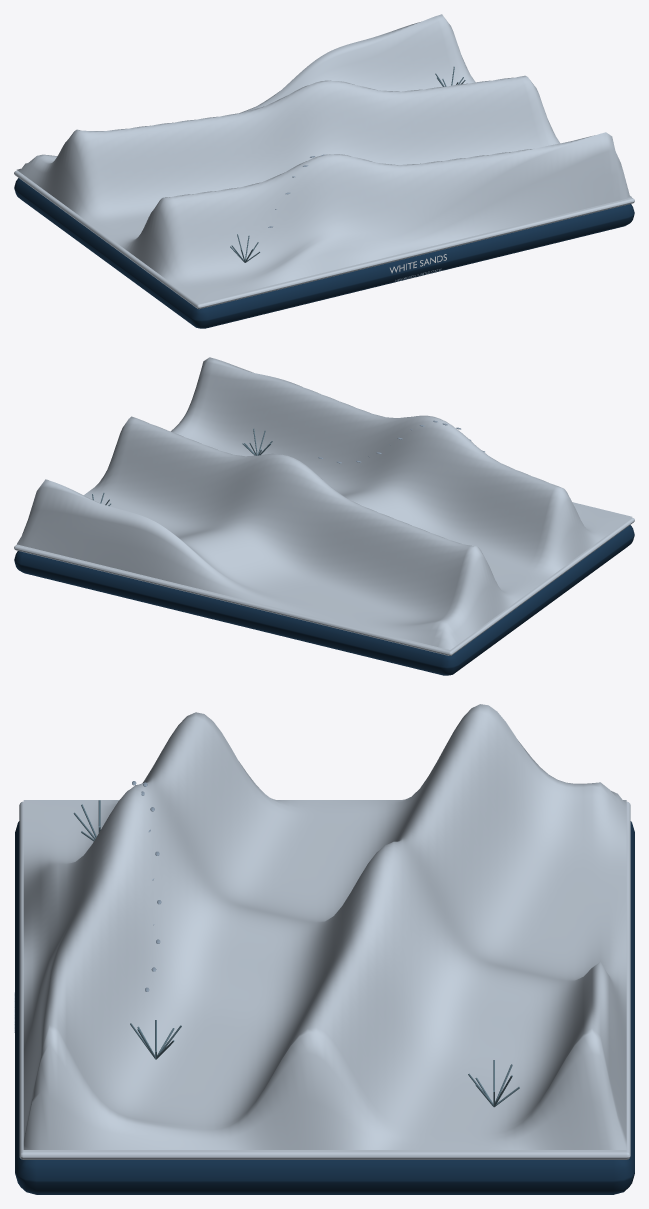
Rendered from white-sands.glb.
3 renders of one model, top to bottom at view 1: azimuth 30°, elevation 25°; view 2: azimuth 150°, elevation 25°; view 3: azimuth 270°, elevation 25°, orthographic. The views are drawn at different scales.
Visible parts, largest first — view 1: Rolling gypsum dunes, Floating terrain, Ground; view 2: Rolling gypsum dunes, Floating terrain, Ground; view 3: Rolling gypsum dunes, Floating terrain, Ground.
Part boxes in pixels (box(x1,y1,x2,y2)): Rolling gypsum dunes: box(17, 14, 631, 302); Floating terrain: box(14, 178, 634, 328); Ground: box(14, 170, 634, 309); Rolling gypsum dunes: box(17, 357, 631, 649); Floating terrain: box(14, 525, 634, 675); Ground: box(14, 517, 634, 655); Rolling gypsum dunes: box(23, 704, 626, 1149); Floating terrain: box(15, 821, 634, 1194); Ground: box(19, 801, 630, 1159).
Size of the model in its own units: 15 by 3.66 by 11.02.
